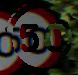Speed limit: (11, 14, 70, 64)
